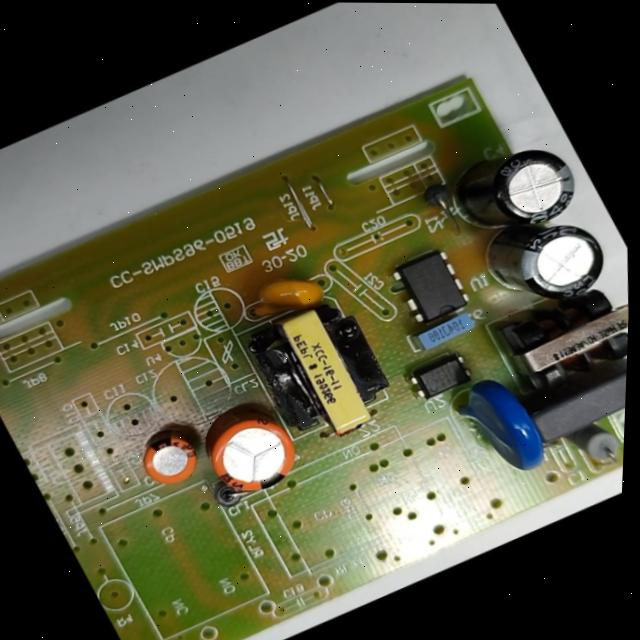Cap1: (190, 403, 313, 510)
Cap2: (128, 422, 212, 497)
Cap3: (466, 199, 620, 328)
Cap4: (432, 125, 599, 256)
MOSFET: (382, 241, 481, 335)
Mov: (438, 365, 561, 491)
Resistor: (559, 416, 625, 479)
Transformer: (239, 288, 414, 453), (491, 279, 630, 409)
